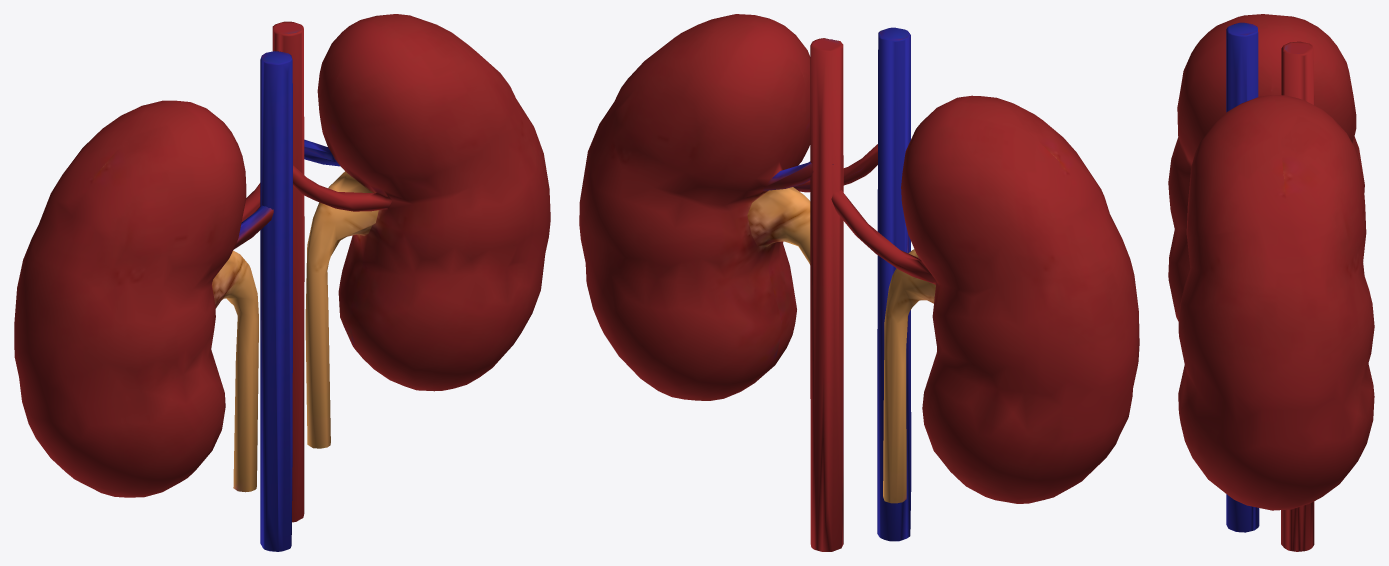
File: PRP_Kidney_lod.glb
The picture shows the model from 3 angles, left to right: view 1: azimuth 30°, elevation 25°; view 2: azimuth 150°, elevation 25°; view 3: azimuth 270°, elevation 25°; orthographic projection. The views are drawn at different scales.
Visible parts, largest first — view 1: kidney02:kidney03:Group12708_Kidney Tex_0; view 2: kidney02:kidney03:Group12708_Kidney Tex_0; view 3: kidney02:kidney03:Group12708_Kidney Tex_0.
Part boxes in pixels (box(x1,y1,x2,y2)): kidney02:kidney03:Group12708_Kidney Tex_0: box(14, 14, 550, 551); kidney02:kidney03:Group12708_Kidney Tex_0: box(579, 14, 1139, 551); kidney02:kidney03:Group12708_Kidney Tex_0: box(1168, 14, 1374, 551).
Bounding box in the file's own units: 1.71 × 1.55 × 0.5818.
1 material, 1 textured.
